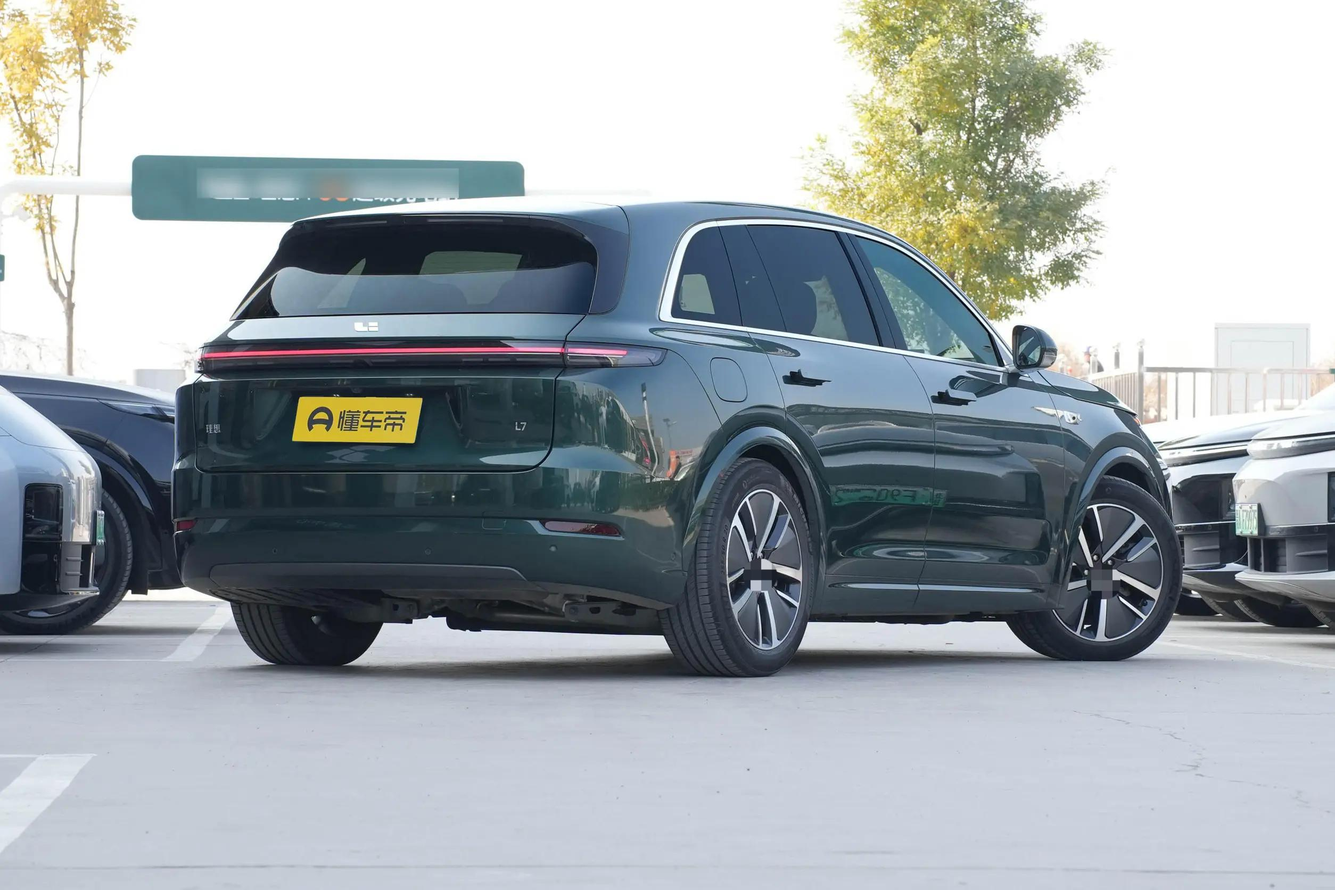Li Auto: (353, 321, 379, 333)
